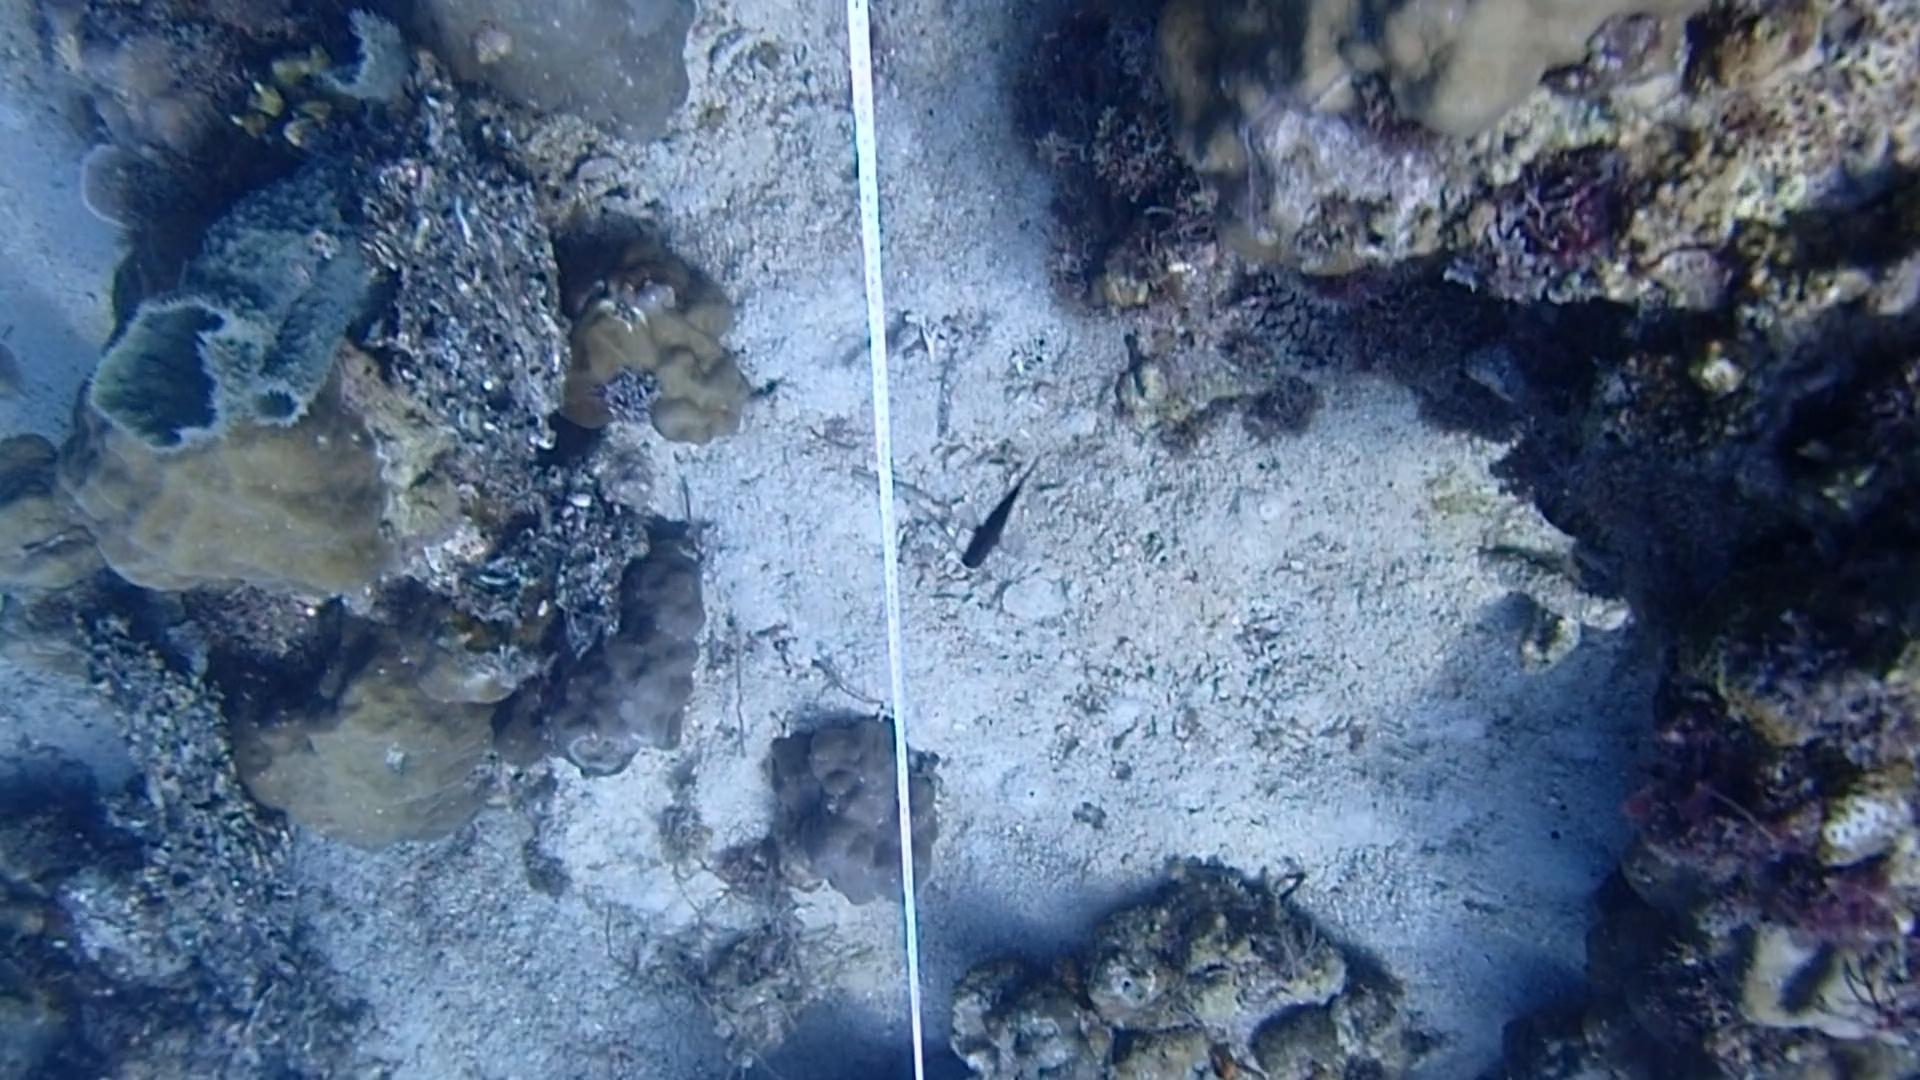Dark Fish: (940, 463, 1059, 584)
